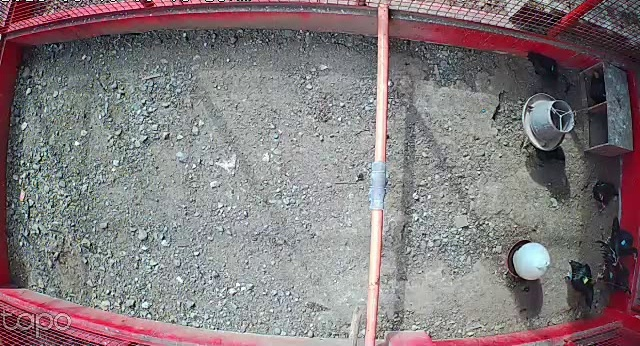Chicken: (600, 215, 640, 262), (563, 255, 598, 306), (522, 50, 568, 84), (587, 174, 629, 206)
Rooster: (592, 234, 636, 298)
Saddle_Color_Blue: (621, 239, 627, 245)
Saddle_Color_YellowGreen: (583, 275, 589, 284)
